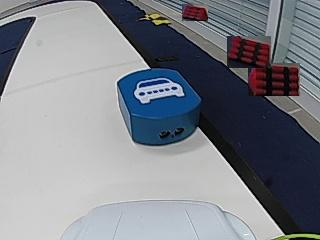safety: (133, 77, 185, 103)
